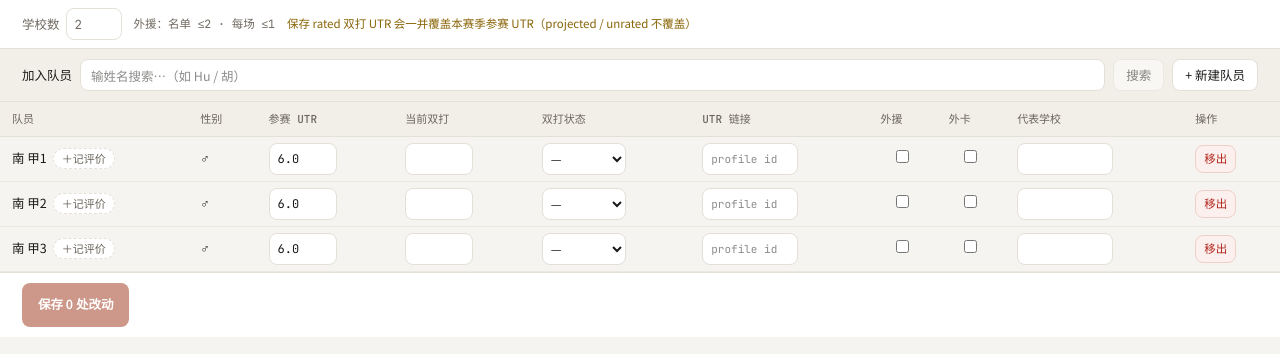
Test: TeamEditPanel add / remove player › requires confirmation before removing, and cancel aborts
The width and height of the screenshot is (1280, 354).
Click the button "移出" in the row of "南 甲1".
click(1216, 158)  # box [1195,144,1236,172]
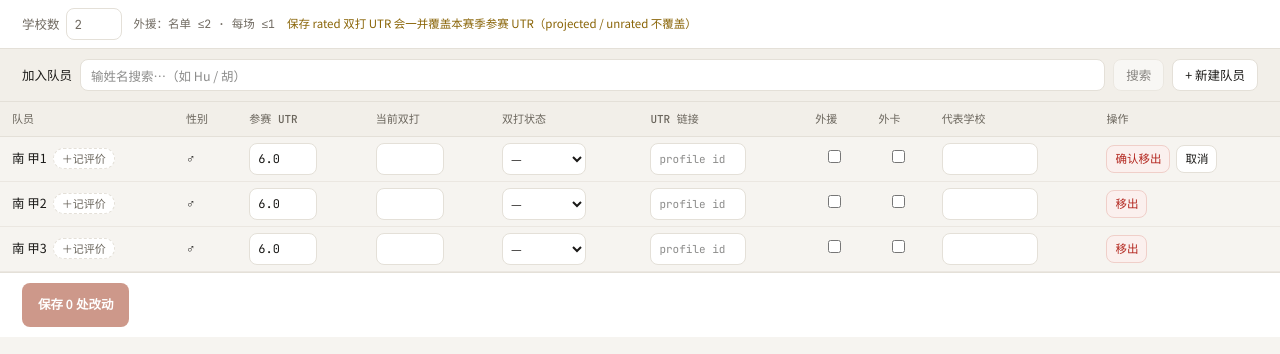
Check: the button "确认移出" is shown, box [1106,144,1170,172]
Click the button "取消".
click(1197, 158)  # box [1176,144,1218,172]
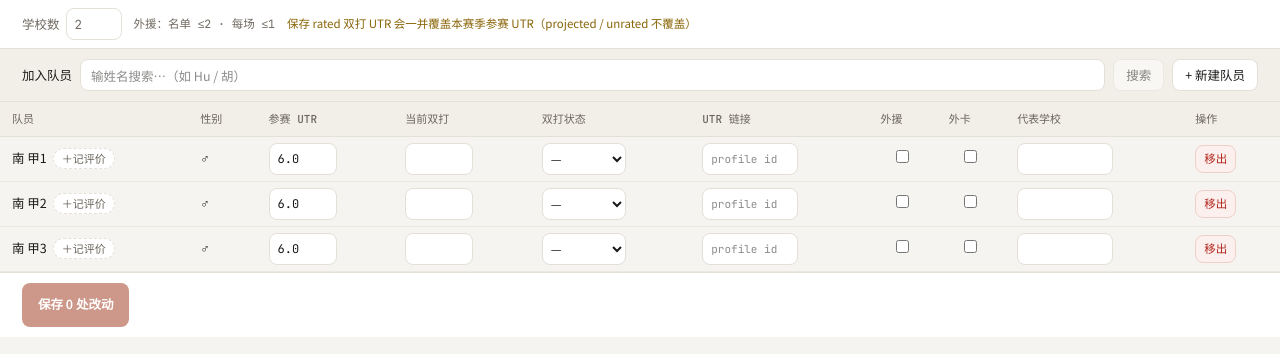
Check: the button "确认移出" is gone
